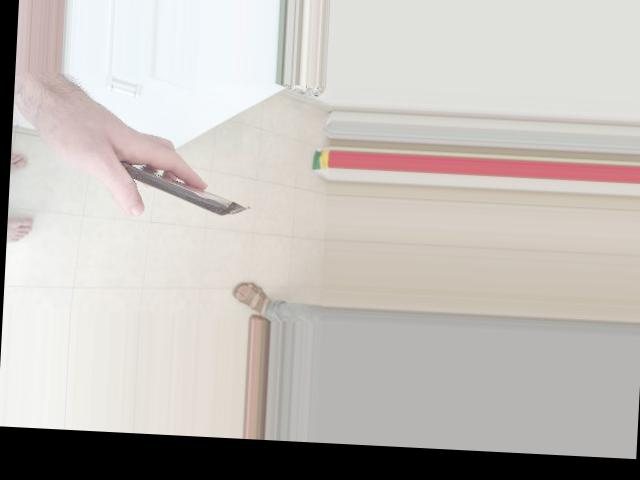chocolate: (96, 134, 255, 231)
